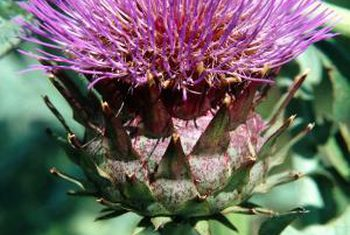thistle: (11, 1, 318, 203)
